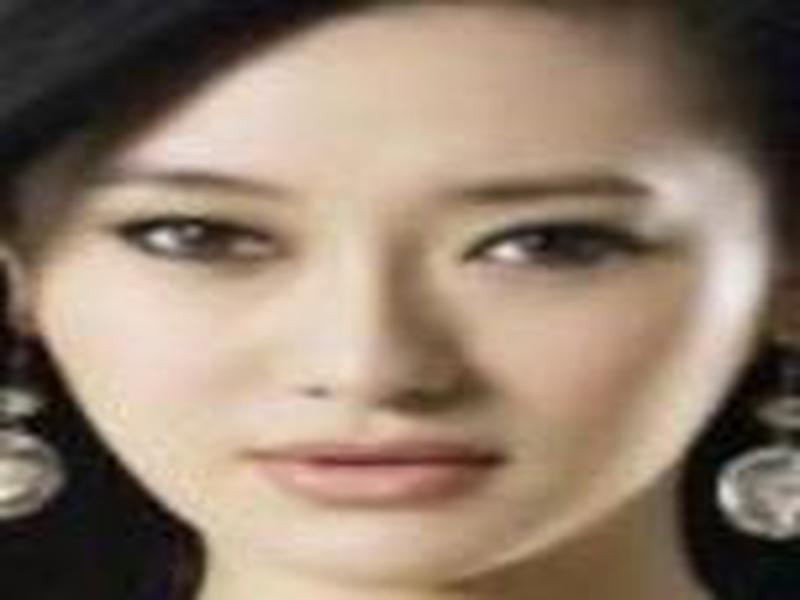without_mask: (29, 48, 755, 580)
